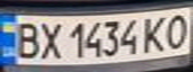1: (63, 18, 84, 58)
3: (103, 18, 124, 57)
4: (118, 16, 142, 56), (84, 18, 106, 57)
B: (9, 18, 42, 60)
K: (139, 12, 172, 54)
O: (160, 10, 193, 49)
X: (33, 18, 63, 61)
